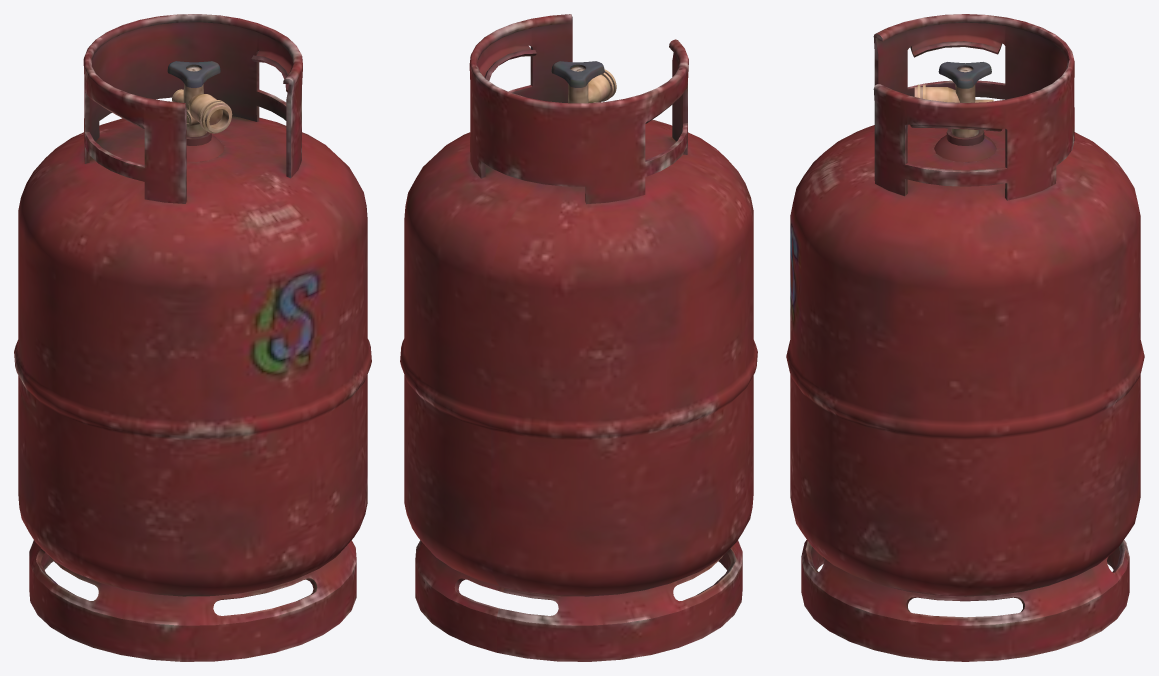
File: propane.glb
3 renders of one model, left to right at view 1: azimuth 30°, elevation 25°; view 2: azimuth 150°, elevation 25°; view 3: azimuth 270°, elevation 25°, orthographic.
Parts seen in each view (by area): view 1: propane_tank; view 2: propane_tank; view 3: propane_tank.
Part boxes in pixels (x1,y1,x2,y2): propane_tank: (14, 14, 371, 661); propane_tank: (400, 14, 757, 661); propane_tank: (786, 14, 1144, 661).
Bounding box in the file's own units: 0.3374 × 0.5538 × 0.3374.
Materials: 1 (1 with a texture image).
